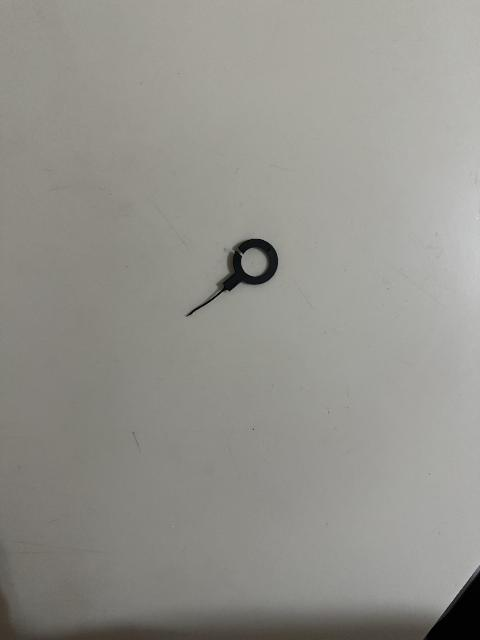Plastik: (184, 237, 280, 319)
